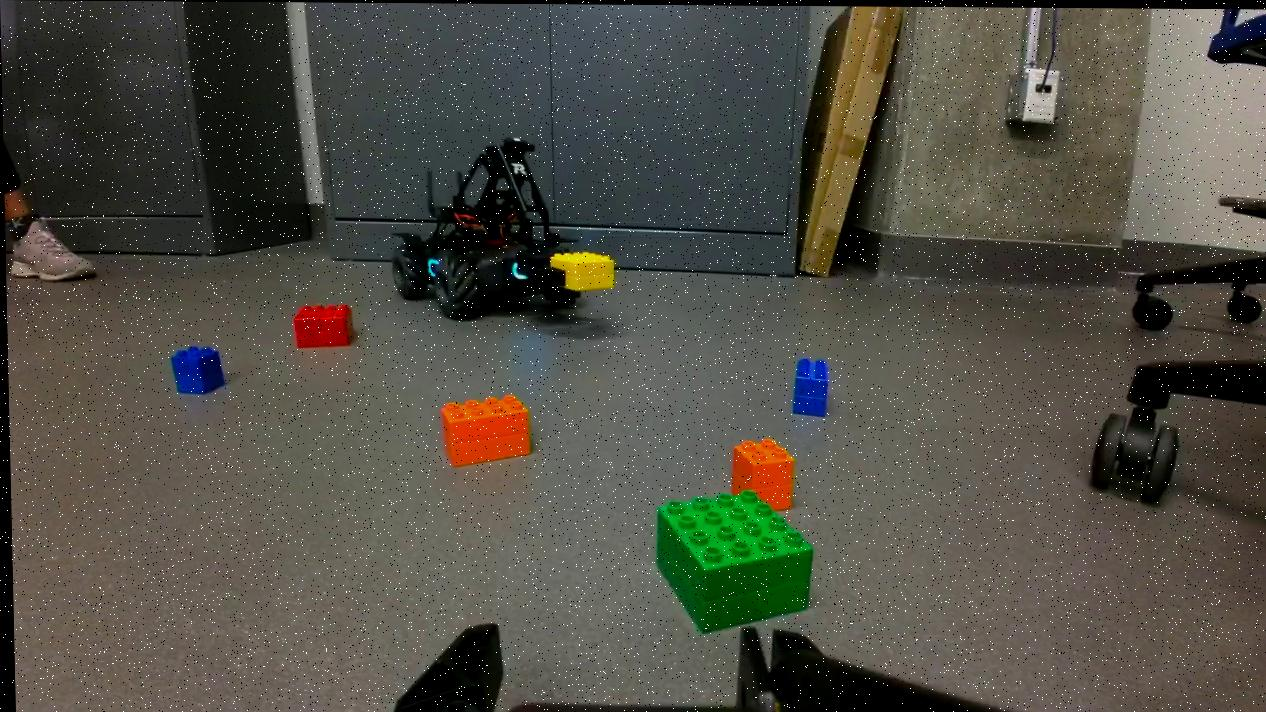2x2lego: (726, 437, 796, 509), (164, 341, 224, 397)
2x4lego: (435, 391, 534, 467), (789, 353, 829, 420)
4x4lego: (646, 490, 815, 637), (291, 297, 355, 354)
